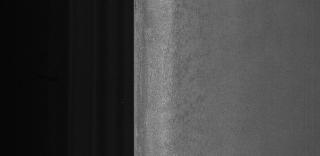silk spot: (170, 28, 202, 130)
